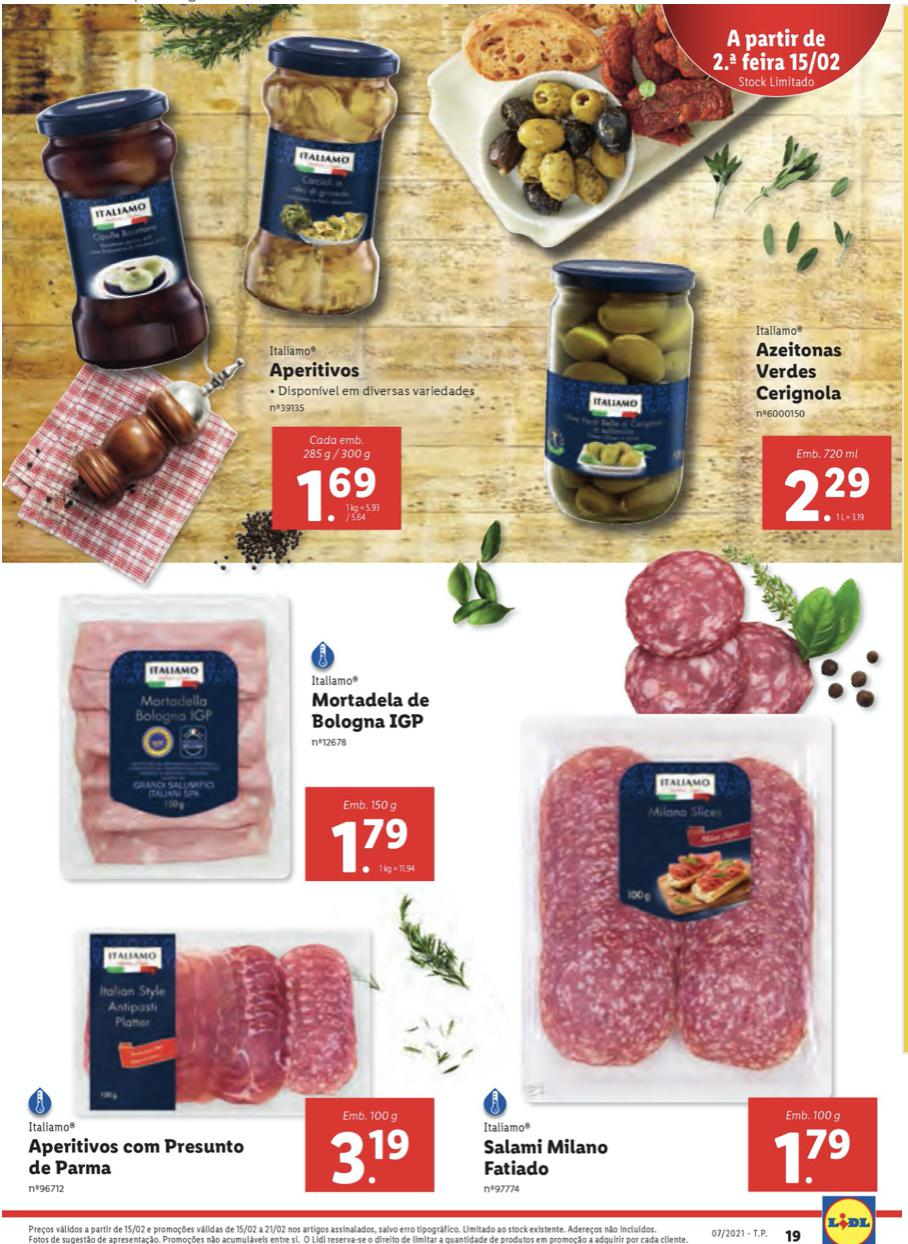name: (28, 1137, 249, 1178), (751, 337, 855, 409), (478, 1132, 614, 1181), (303, 687, 432, 737), (262, 358, 369, 384)
price: (286, 460, 394, 527), (780, 463, 878, 527), (323, 1126, 415, 1190), (329, 818, 414, 878), (772, 1127, 854, 1189)
product: (460, 709, 895, 1200), (29, 46, 418, 550), (9, 915, 446, 1206), (37, 589, 443, 892), (494, 241, 894, 533)
